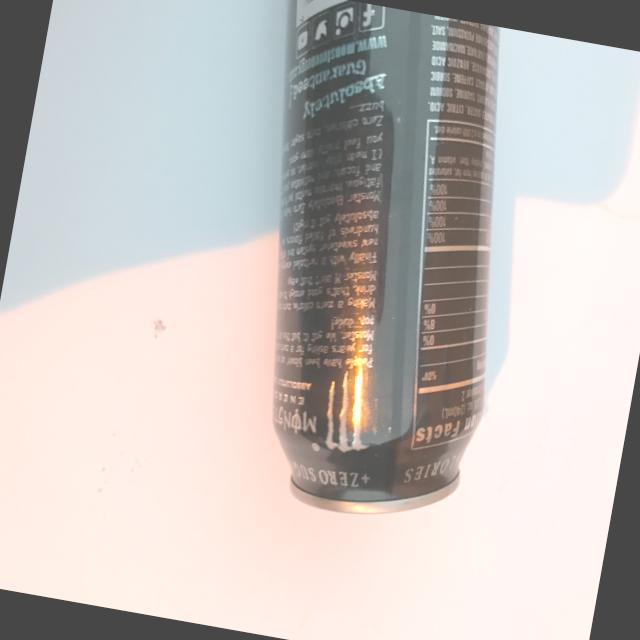Metal: (184, 0, 556, 618)
